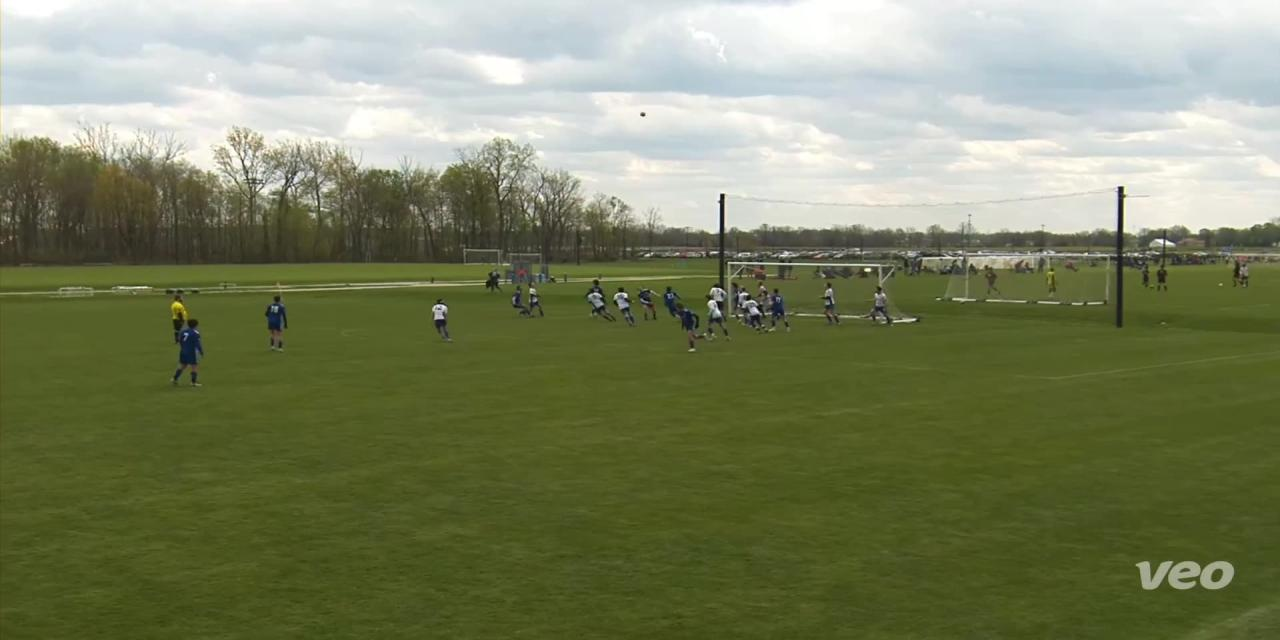goal: (720, 256, 934, 332)
sports ball: (638, 109, 651, 119)
